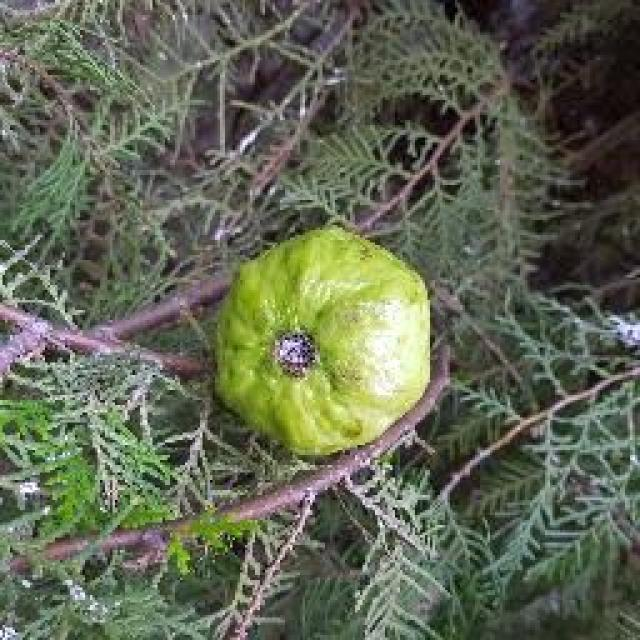Good_Guava: (212, 228, 435, 460)
